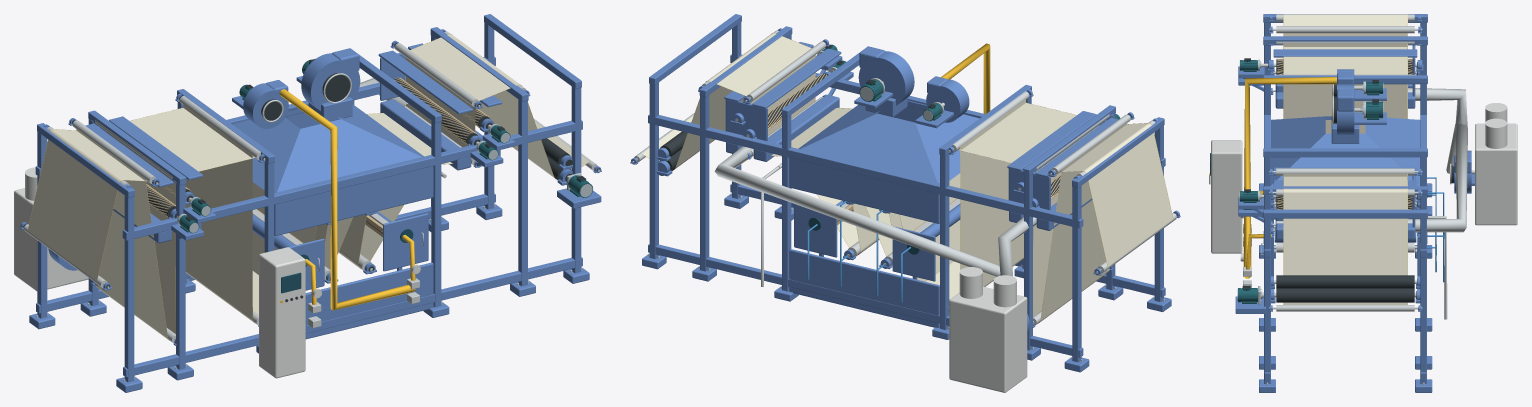
File: singeing.glb
3 renders of one model, left to right at view 1: azimuth 30°, elevation 25°; view 2: azimuth 150°, elevation 25°; view 3: azimuth 270°, elevation 25°, orthographic. The views are drawn at different scales.
Parts seen in each view (by area): view 1: SSG_complete_web, SSG_tapered_hood, SSG_control_cabinet, SSG_chamber_upper_side, SSG_upper_stringer, SSG_lower_stringer, SSG_chamber_lower_side, SSG_dust_filter_box, SSG_air_manifold, SSG_access_panel.001, SSG_frame_column, SSG_frame_column.006 (+29 smaller); view 2: SSG_complete_web, SSG_tapered_hood, SSG_dust_filter_box, SSG_chamber_lower_side.001, SSG_upper_stringer.001, SSG_chamber_upper_side.001, SSG_brush_dust_duct.001, SSG_lower_stringer.001, SSG_access_panel.003, SSG_frame_column.001, SSG_exhaust_volute, SSG_frame_column.009 (+30 smaller); view 3: SSG_complete_web, SSG_tapered_hood, SSG_dust_filter_box, SSG_control_cabinet, SSG_exit_pull_body, SSG_exit_pressure_body, SSG_brush_dust_duct.001, SSG_air_manifold, SSG_cross_top.005, SSG_cross_top.003, SSG_pre_brush_roof.001, SSG_cross_top.001 (+22 smaller).
Boxes of the visible parts, <box> form: SSG_complete_web: <box>27,34,589,339</box>; SSG_tapered_hood: <box>232,104,423,192</box>; SSG_control_cabinet: <box>259,247,305,378</box>; SSG_chamber_upper_side: <box>274,166,433,235</box>; SSG_upper_stringer: <box>122,120,582,240</box>; SSG_lower_stringer: <box>123,257,582,377</box>; SSG_chamber_lower_side: <box>305,262,433,339</box>; SSG_dust_filter_box: <box>14,188,88,291</box>; SSG_air_manifold: <box>279,89,415,310</box>; SSG_access_panel.001: <box>383,213,428,271</box>; SSG_frame_column: <box>124,196,134,382</box>; SSG_frame_column.006: <box>431,120,441,307</box>; SSG_complete_web: <box>642,33,1172,321</box>; SSG_tapered_hood: <box>798,100,979,183</box>; SSG_dust_filter_box: <box>949,286,1027,392</box>; SSG_chamber_lower_side.001: <box>789,249,939,327</box>; SSG_upper_stringer.001: <box>648,114,1083,228</box>; SSG_chamber_upper_side.001: <box>789,157,939,223</box>; SSG_brush_dust_duct.001: <box>714,146,1000,276</box>; SSG_lower_stringer.001: <box>648,244,1083,357</box>; SSG_access_panel.003: <box>794,204,837,257</box>; SSG_frame_column.001: <box>1072,186,1081,362</box>; SSG_exhaust_volute: <box>858,51,914,105</box>; SSG_frame_column.009: <box>700,95,709,271</box>; SSG_complete_web: <box>1283,14,1407,304</box>; SSG_tapered_hood: <box>1271,116,1420,186</box>; SSG_dust_filter_box: <box>1475,123,1517,225</box>; SSG_control_cabinet: <box>1211,140,1242,253</box>; SSG_exit_pull_body: <box>1276,288,1414,302</box>; SSG_exit_pressure_body: <box>1276,275,1414,288</box>; SSG_brush_dust_duct.001: <box>1408,123,1467,232</box>; SSG_air_manifold: <box>1243,77,1336,278</box>; SSG_cross_top.005: <box>1263,209,1427,218</box>; SSG_cross_top.003: <box>1263,148,1427,157</box>; SSG_pre_brush_roof.001: <box>1273,49,1417,57</box>; SSG_cross_top.001: <box>1263,36,1427,45</box>.
Bounding box in the file's own units: 7.46 × 3.43 × 4.46.
